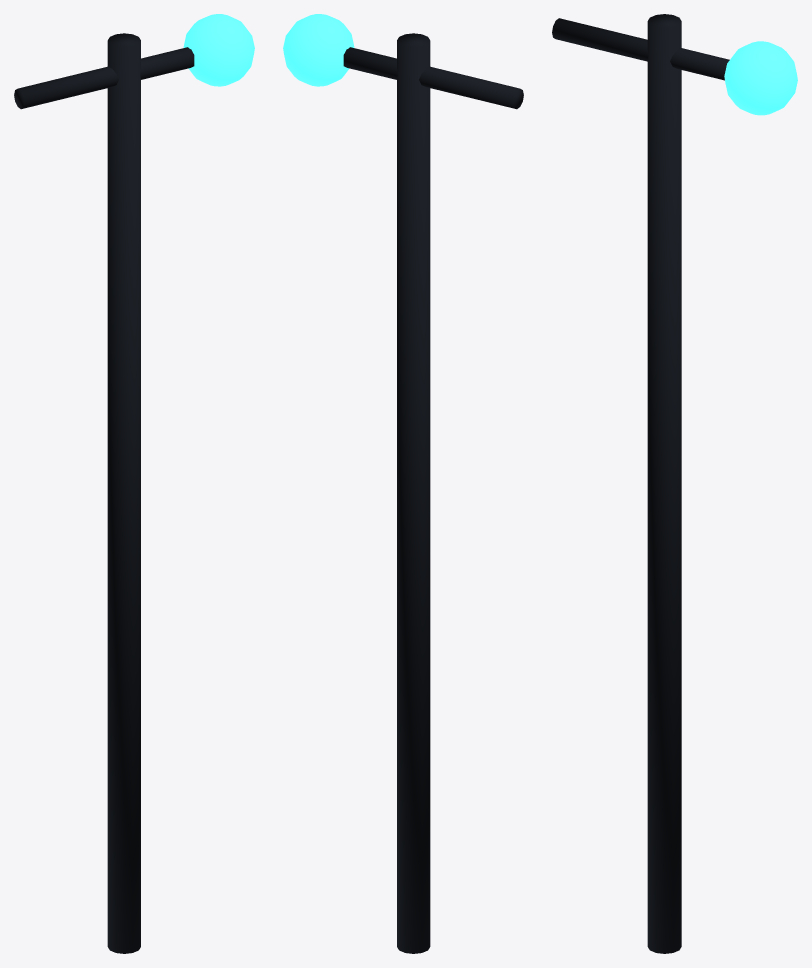
File: StreetLamp.fbx
3 renders of one model, left to right at view 1: azimuth 30°, elevation 25°; view 2: azimuth 150°, elevation 25°; view 3: azimuth 330°, elevation 25°, orthographic. The views are drawn at different scales.
Visible parts, largest first — view 1: Lamp_00; view 2: Lamp_00; view 3: Lamp_00.
Part boxes in pixels (<box>): Lamp_00: <box>14,14,254,953</box>; Lamp_00: <box>283,14,523,953</box>; Lamp_00: <box>552,14,797,953</box>.
Size of the model in its own units: 0.88 by 3.3 by 0.24.
